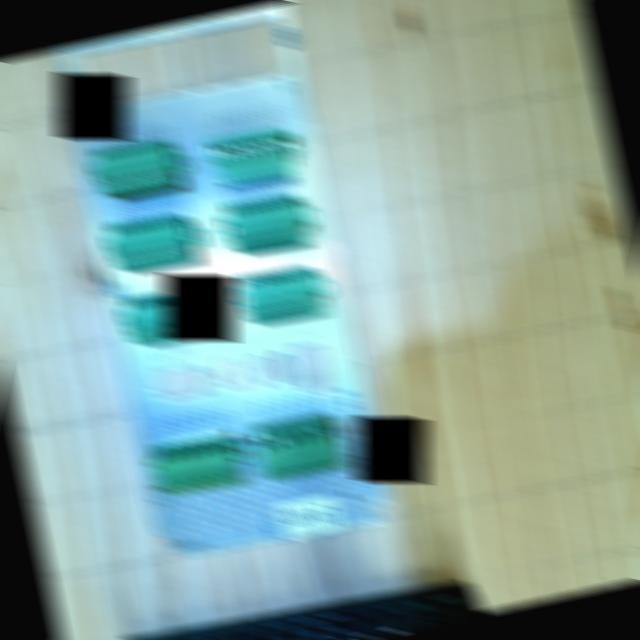Terminal_1: (252, 415, 344, 483), (148, 433, 241, 496)
Terminal_2: (89, 136, 179, 198), (222, 191, 310, 254), (104, 211, 193, 272), (119, 286, 208, 346), (237, 263, 324, 324)
